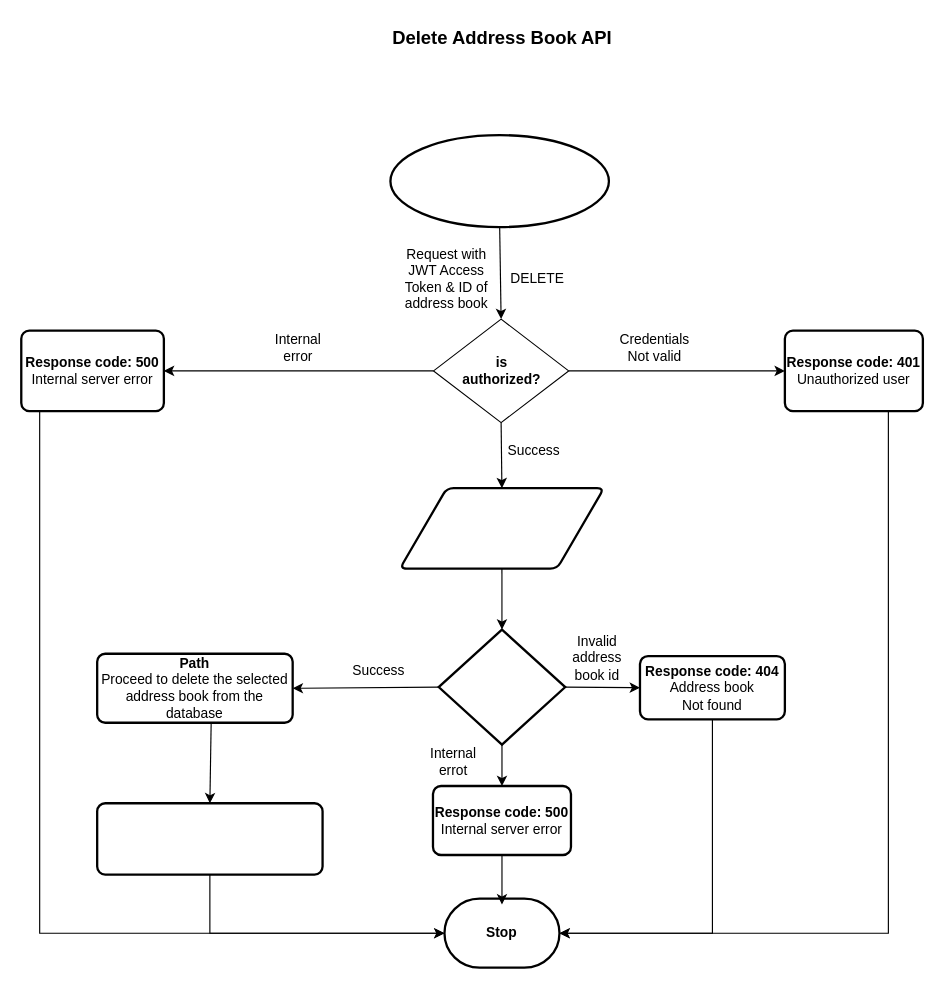
This 943x988 diagram has some shape labels left out. Here are the shapes that lost their labels. From the top down, the centre of each, then its label:
the point at 499,180: Start /api/address-book/{id}
the point at 501,527: User input ID of the address book to delete id: UUID
the point at 501,686: Validate is the address book exists?
the point at 209,838: Response code: 200 Address book deleted successfully
